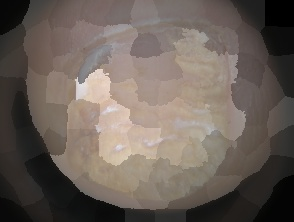Nail_psoriasis: (40, 0, 284, 222)
